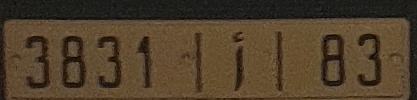1: (136, 35, 153, 89)
3: (95, 35, 123, 89), (24, 34, 51, 89), (356, 32, 383, 87)
8: (321, 32, 347, 87), (60, 35, 86, 89)
a: (231, 30, 246, 92)
